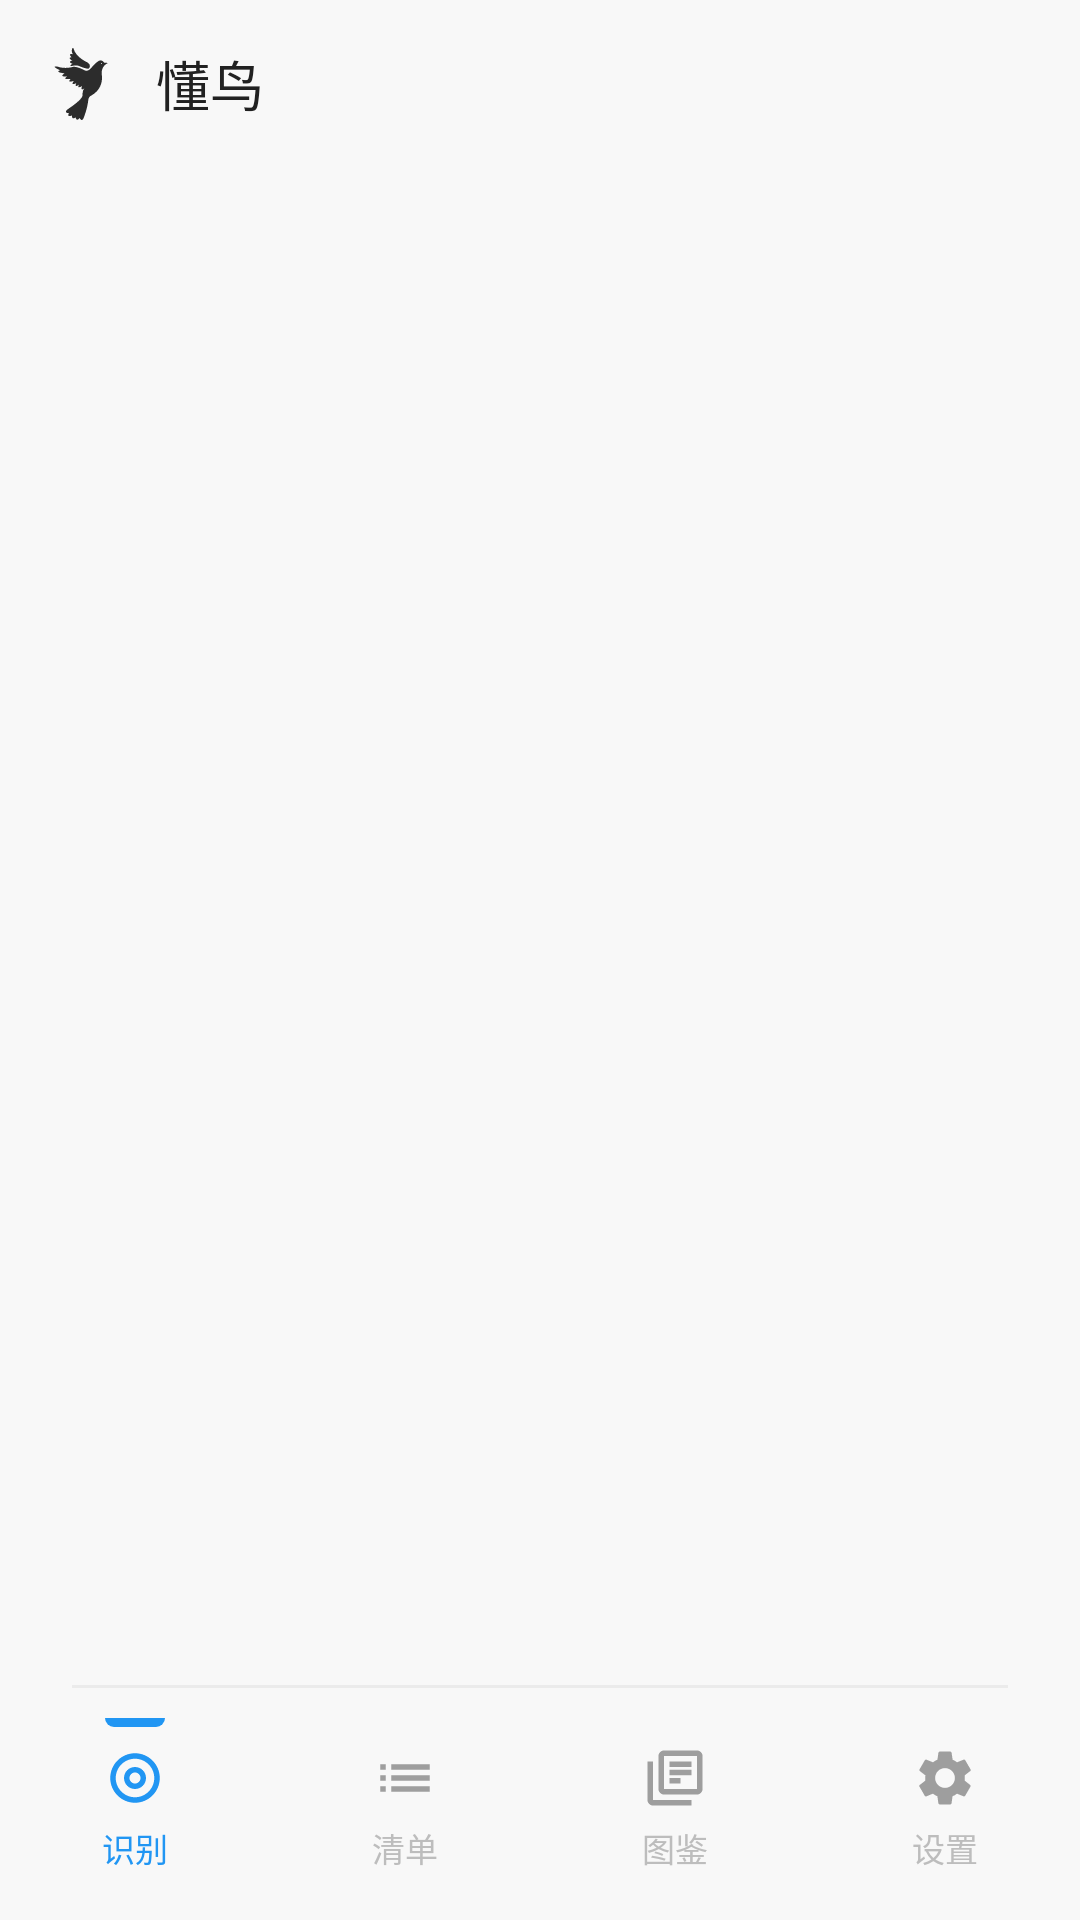

Where to tap for icons on this 1080 x 1920 app screen, as (x=x, y=y):
bird: (x=81, y=84)
